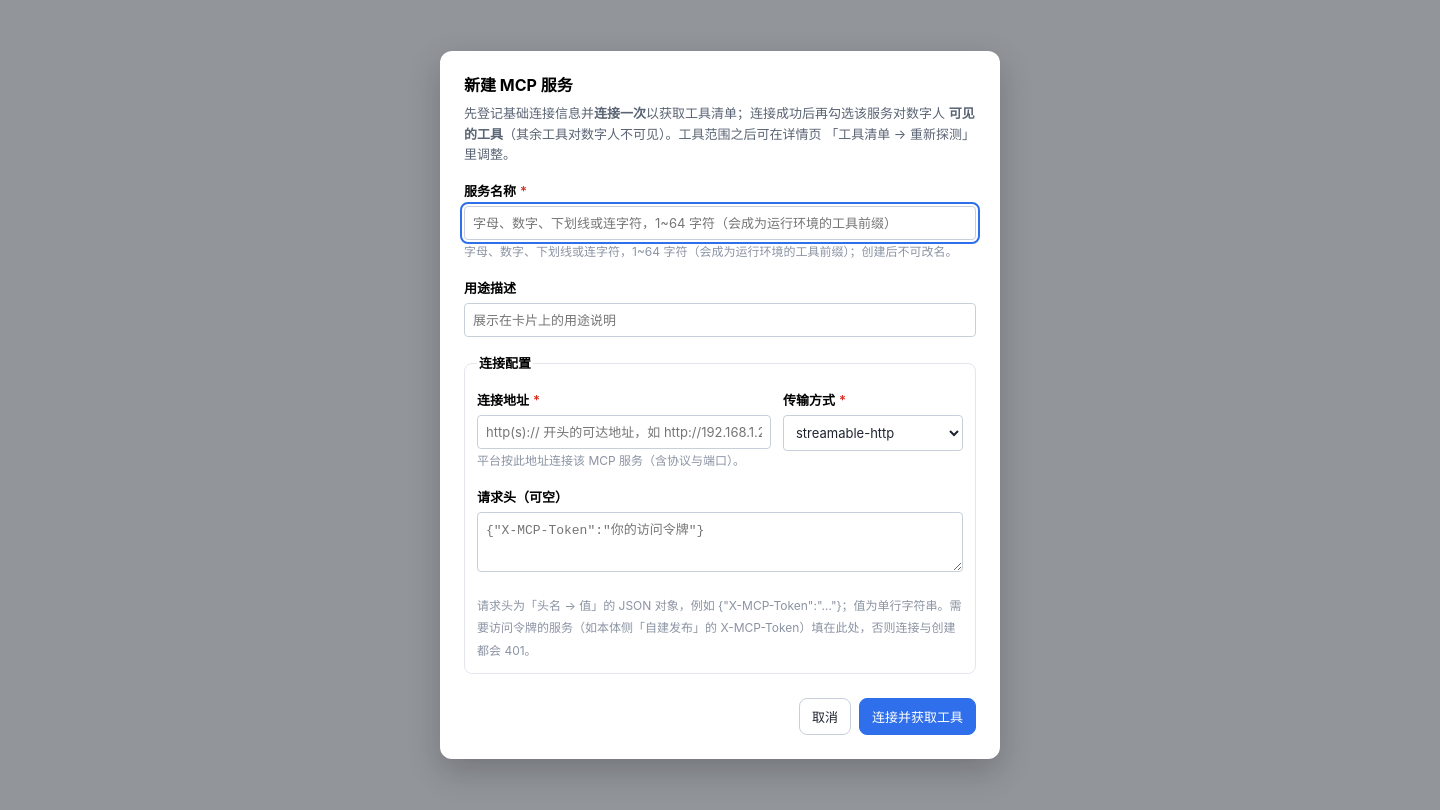
it: McpCreateDialog —— 第一步：探测 › 探测成功 → 进入工具勾选步（探测载荷用 trim 后的值）
Type "  ocr  " into the field with id "mcp-create-name". click: (720, 223)
box: [464, 206, 976, 240]
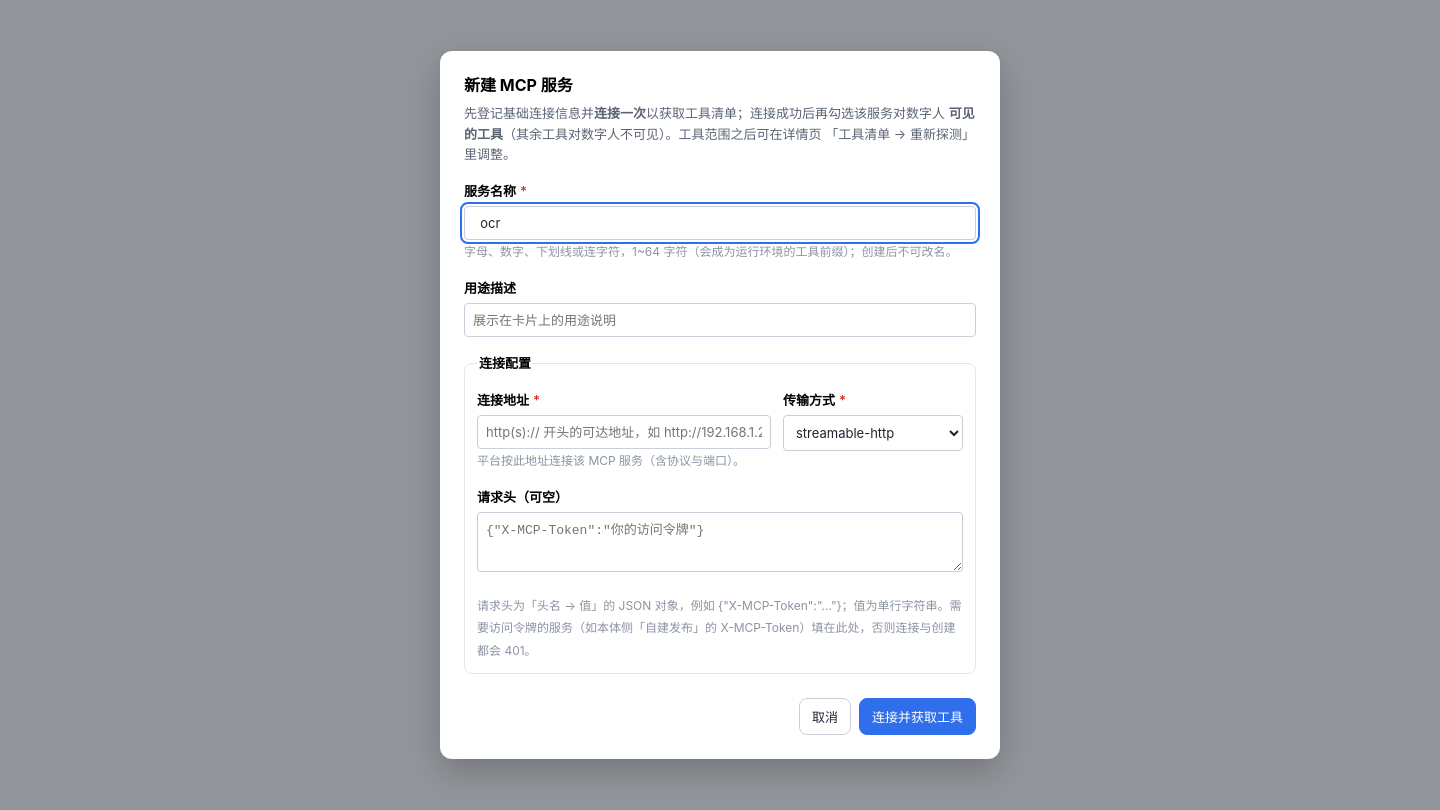
Type "  http://h:8000/mcp  " into the field with id "mcp-create-url". click: (624, 432)
box: [477, 415, 771, 449]
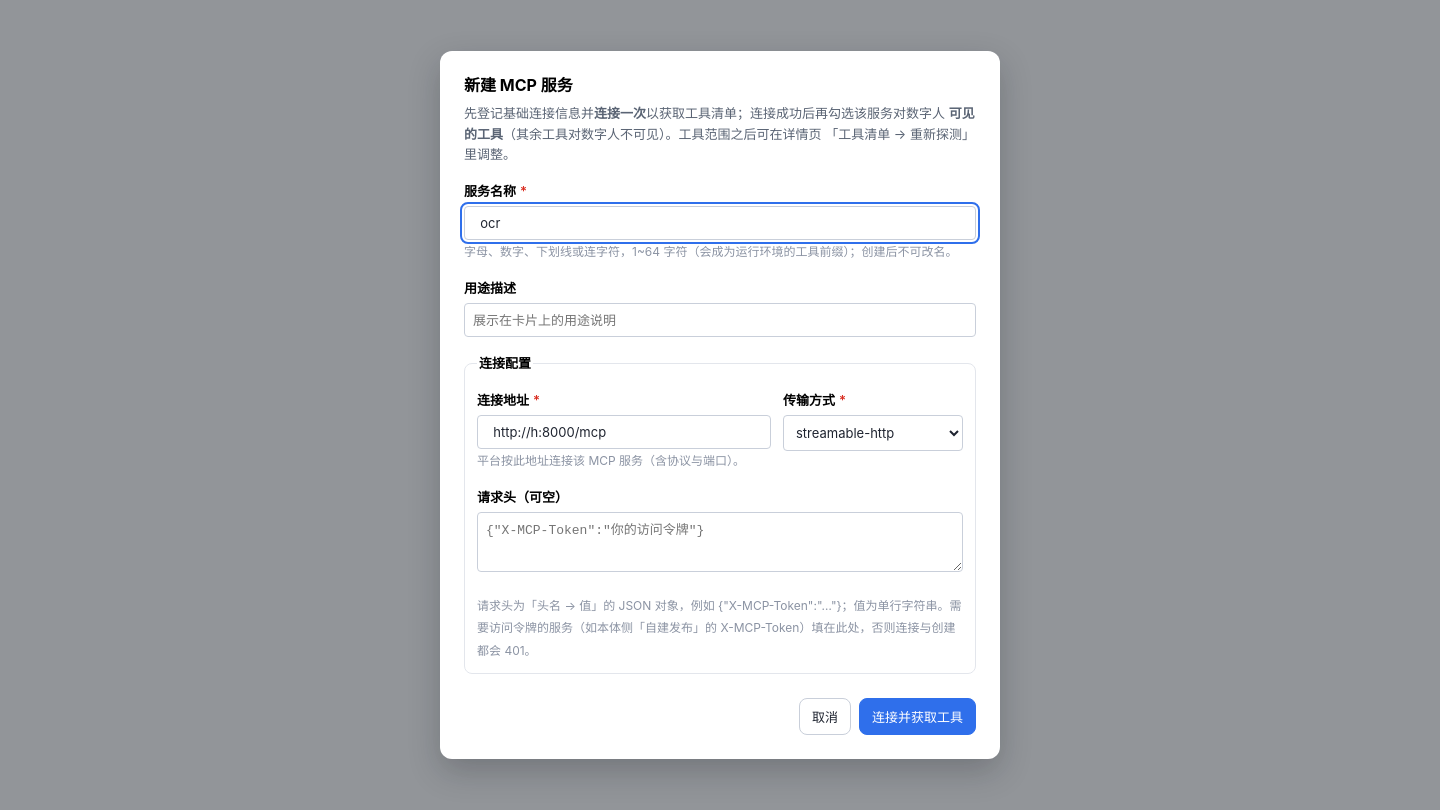
Click the button with test id "confirm". click: click(918, 717)
box: [859, 698, 976, 735]
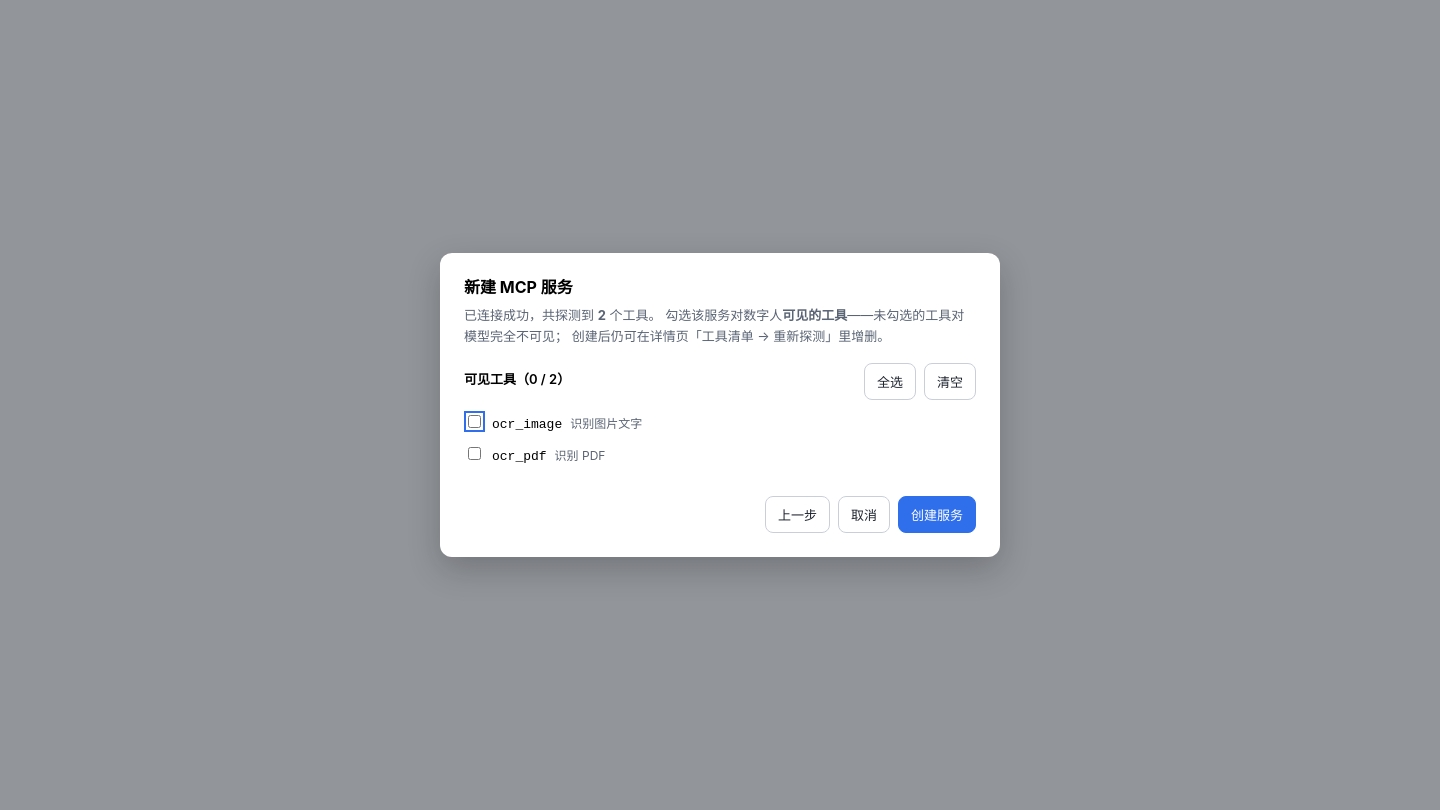
Expected: the number of checkboxes with test id "tool" is 2, [468, 415, 481, 428]; [468, 447, 481, 460]
Expected: the text "已连接成功" is shown, [464, 307, 598, 323]
